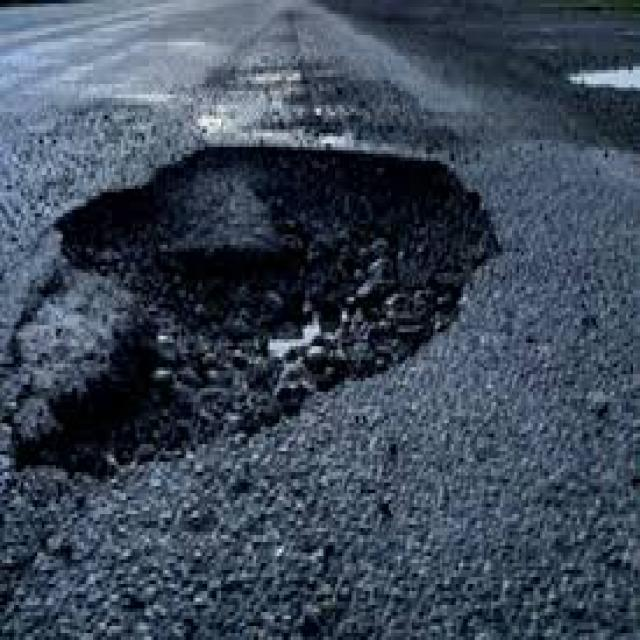Pothole: (12, 133, 496, 479)
